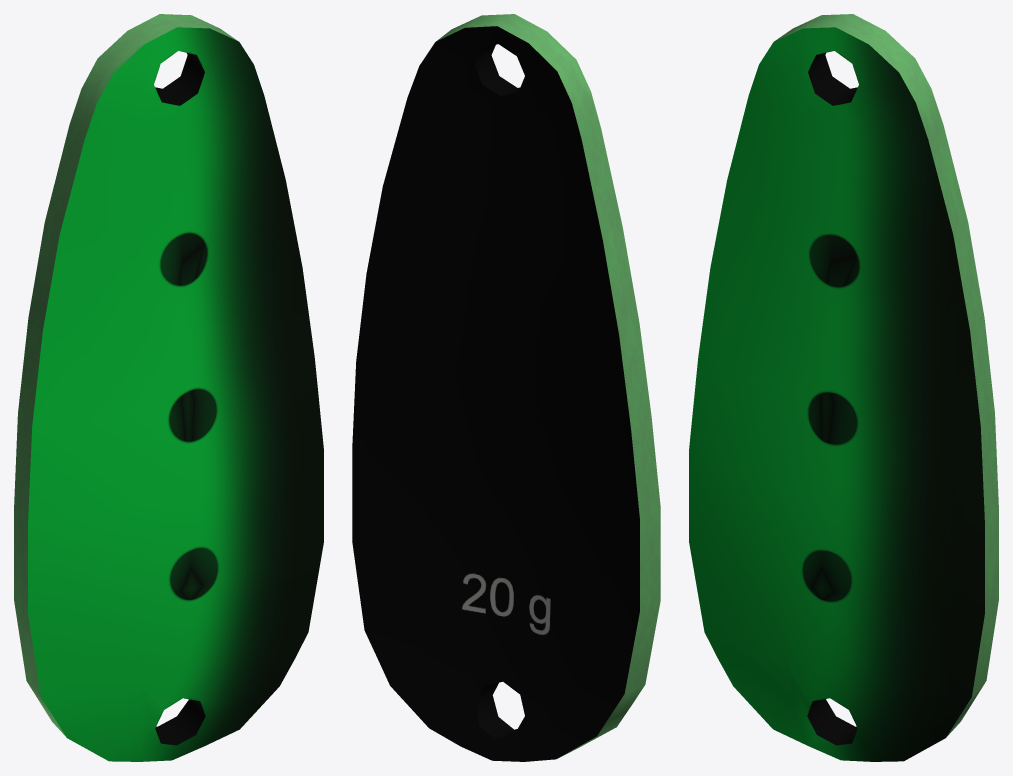
Rendered from spoon_r_1415.fbx.
3 views of the same model, side by side, from view 1: azimuth 30°, elevation 25°; view 2: azimuth 150°, elevation 25°; view 3: azimuth 330°, elevation 25° (orthographic).
Parts seen in each view (by area): view 1: spoon_r_1415; view 2: spoon_r_1415; view 3: spoon_r_1415.
Part boxes in pixels (bbox=[...]): spoon_r_1415: bbox=[14, 14, 323, 761]; spoon_r_1415: bbox=[352, 14, 660, 761]; spoon_r_1415: bbox=[689, 14, 998, 761].
Bounding box in the file's own units: 25.19 × 59.99 × 5.41.
Materials: 1 (1 with a texture image).
